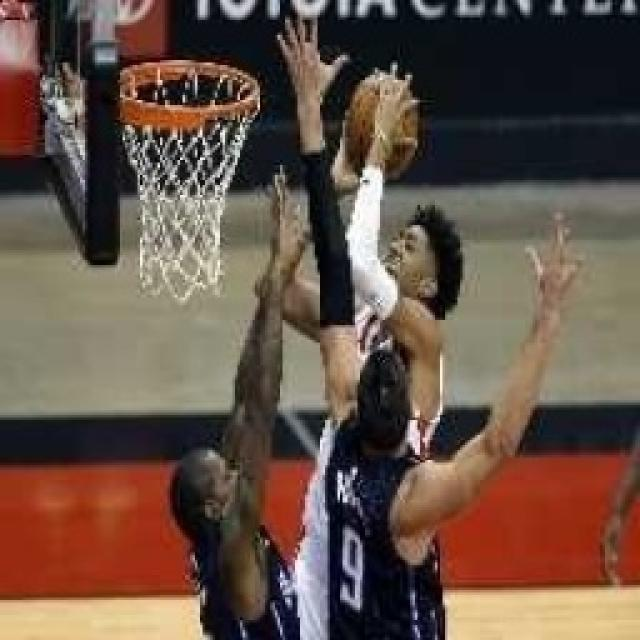rim: (332, 75, 417, 174)
